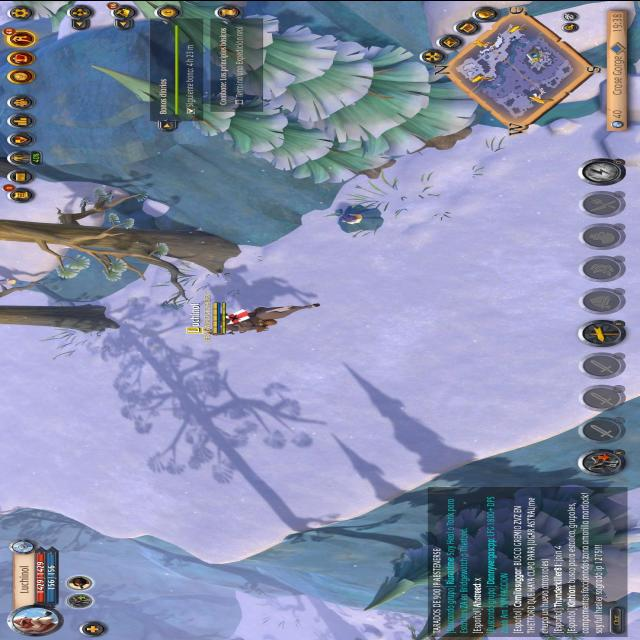piedra_cobre: (322, 199, 387, 237)
